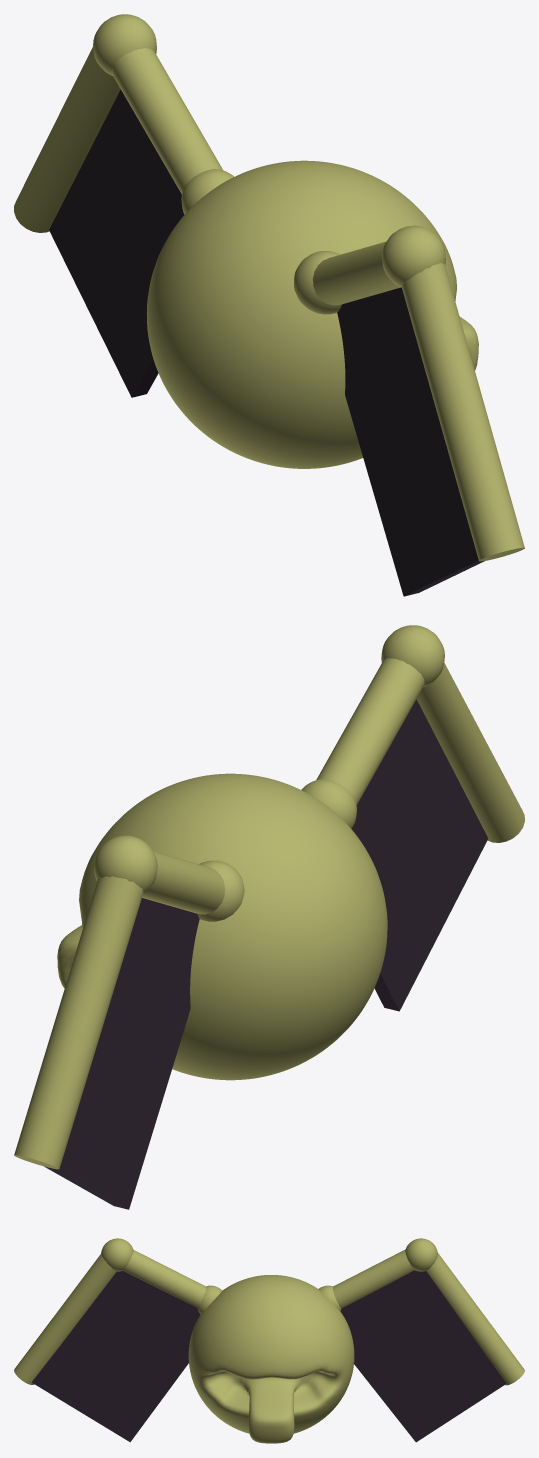
Rendered from Inkjet.fbx.
3 views of the same model, one above another, from view 1: azimuth 30°, elevation 25°; view 2: azimuth 150°, elevation 25°; view 3: azimuth 270°, elevation 25° (orthographic). The views are drawn at different scales.
Parts seen in each view (by area): view 1: pSphere1, pCube1, pCylinder3, pCube2, pCylinder4; view 2: pSphere1, pCube2, pCylinder4, pCube1, pCylinder3; view 3: pSphere1, pCube1, pCube2, pCylinder3, pCylinder4.
Boxes of the visible parts, x1=… form: pSphere1: x1=146, y1=160, x2=478, y2=468; pCube1: x1=337, y1=287, x2=484, y2=596; pCylinder3: x1=294, y1=225, x2=524, y2=561; pCube2: x1=49, y1=89, x2=184, y2=397; pCylinder4: x1=14, y1=14, x2=233, y2=232; pSphere1: x1=57, y1=773, x2=387, y2=1080; pCube2: x1=44, y1=898, x2=199, y2=1209; pCylinder4: x1=14, y1=835, x2=244, y2=1169; pCube1: x1=351, y1=699, x2=488, y2=1011; pCylinder3: x1=301, y1=625, x2=524, y2=842; pSphere1: x1=188, y1=1275, x2=354, y2=1443; pCube1: x1=31, y1=1271, x2=200, y2=1442; pCube2: x1=340, y1=1270, x2=506, y2=1442; pCylinder3: x1=14, y1=1238, x2=222, y2=1384; pCylinder4: x1=318, y1=1238, x2=524, y2=1385.
Bounding box in the file's own units: 2.15 × 2.59 × 6.04.
